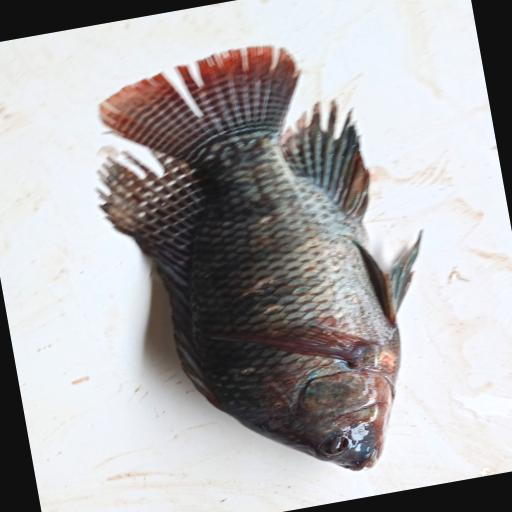Tilapia: (75, 20, 462, 509)
